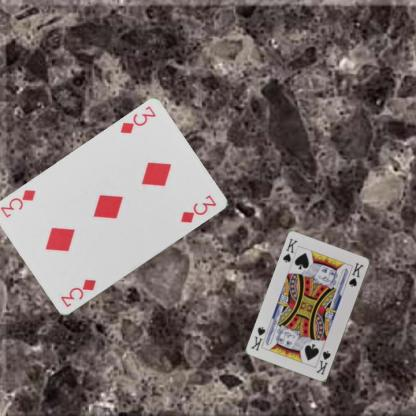3d: (117, 103, 157, 136), (58, 276, 97, 309)
Ks: (280, 236, 299, 264), (313, 349, 332, 376)
